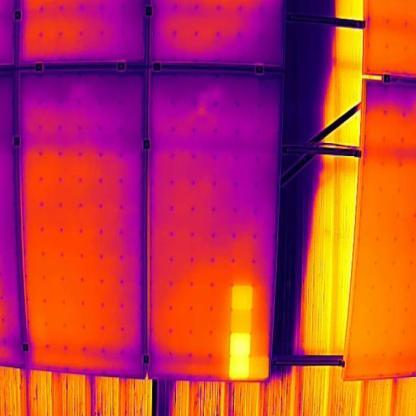anomaly: (223, 281, 275, 383)
